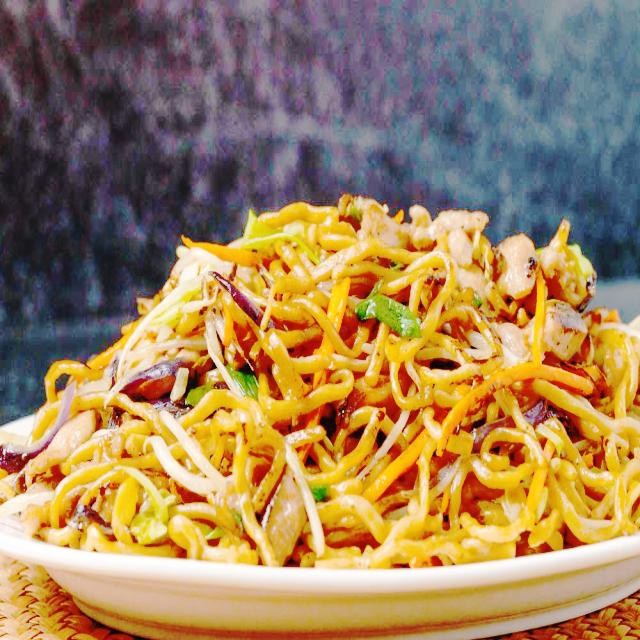Chow Mein: (3, 196, 640, 564)
